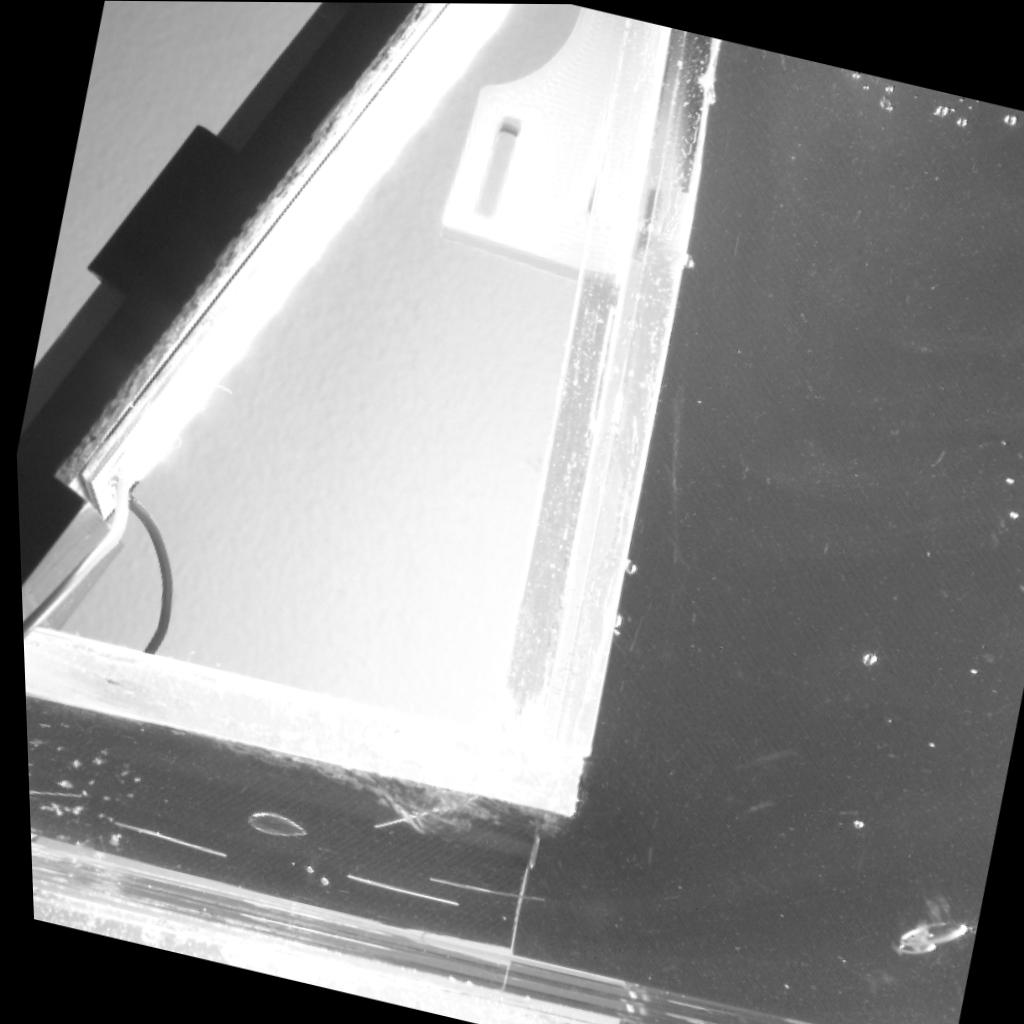Fiber: (338, 870, 454, 906), (107, 824, 217, 857), (368, 794, 472, 826), (418, 875, 537, 902), (23, 788, 76, 799)
